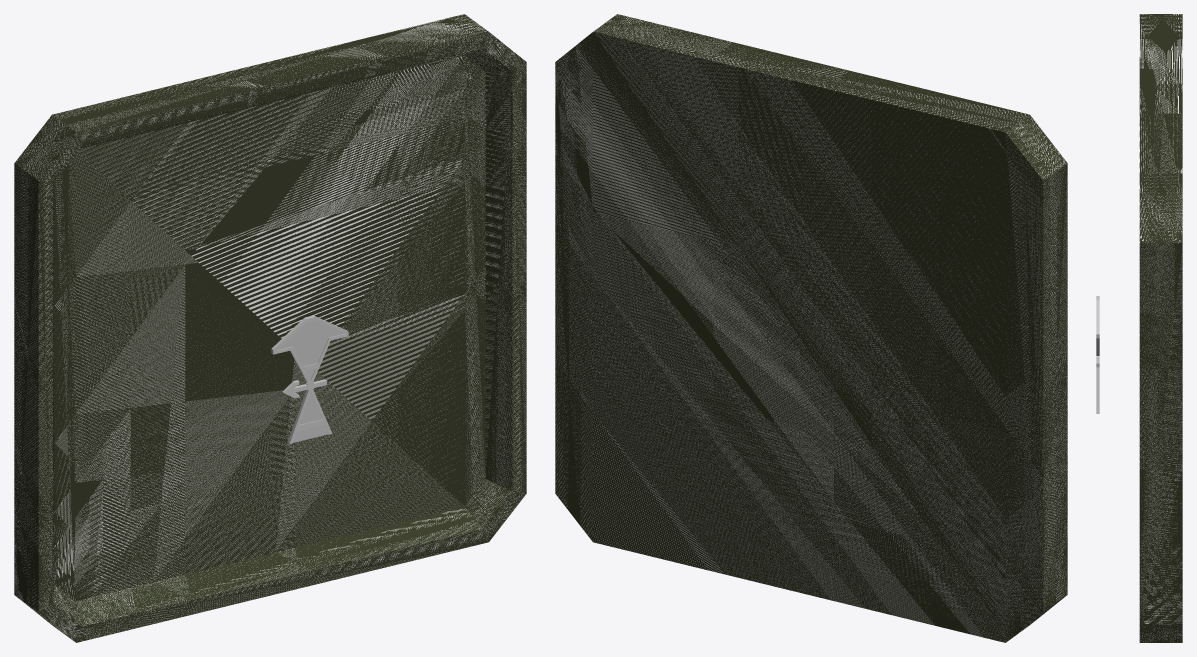
The model's file is CM_-_AttackAviation.obj.
The picture shows the model from 3 angles, left to right: view 1: azimuth 30°, elevation 25°; view 2: azimuth 150°, elevation 25°; view 3: azimuth 270°, elevation 25°; orthographic projection. The views are drawn at different scales.
Visible parts, largest first — view 1: Button.001_ID13, Button_ID3, SM_CM_-_AttackAviation_mesh.018; view 2: Button_ID3; view 3: Button_ID3, SM_CM_-_AttackAviation_mesh.018.
Part boxes in pixels (x1,y1,x2,y2): Button.001_ID13: (53,48,512,626); Button_ID3: (14,14,526,642); SM_CM_-_AttackAviation_mesh.018: (271,315,348,444); Button_ID3: (555,14,1067,642); Button_ID3: (1139,14,1182,642); SM_CM_-_AttackAviation_mesh.018: (1096,296,1099,413).
Size of the model in its own units: 1 by 1 by 0.174.
